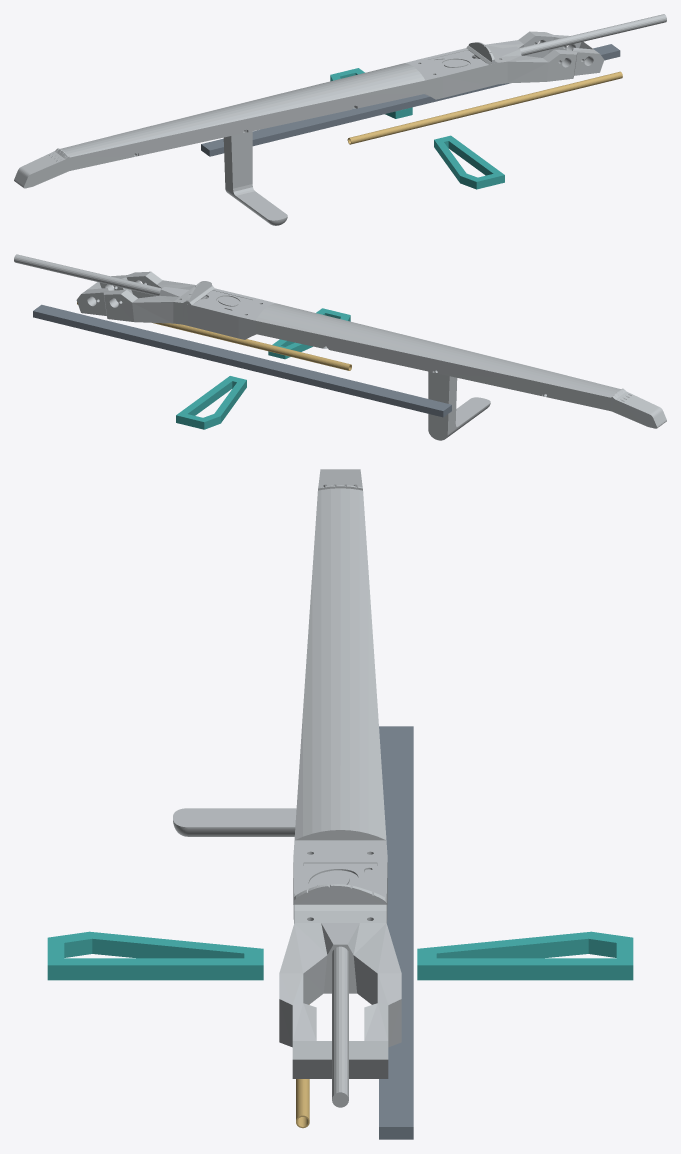
The model's file is bass_study.glb.
The picture shows the model from 3 angles, top to bottom: view 1: azimuth 30°, elevation 25°; view 2: azimuth 150°, elevation 25°; view 3: azimuth 270°, elevation 25°; orthographic projection. The views are drawn at different scales.
Visible parts, largest first — view 1: Part 6, Part 3, METAL_RAIL_ENVELOPE_unresolved, Part 2, Part 1, Part 4, Chest rest, ENDPIN_STOW_ASSUMED, Part 5, wing_1, Center bar, Nameplate (+1 smaller); view 2: METAL_RAIL_ENVELOPE_unresolved, Part 6, Part 3, Part 2, Part 1, Part 4, Chest rest, Part 5, wing_-1, Center bar, ENDPIN_STOW_ASSUMED, Nameplate (+1 smaller); view 3: Part 6, METAL_RAIL_ENVELOPE_unresolved, wing_-1, wing_1, Part 3, Part 4, Part 2, Part 1, Chest rest, Part 5, Center bar, Nameplate (+1 smaller).
Boxes of the visible parts, x1,y1,x2,y2 form: Part 6: (485,31,604,84); Part 3: (233,79,358,133); METAL_RAIL_ENVELOPE_unresolved: (201,44,620,156); Part 2: (126,105,249,155); Part 1: (14,132,139,188); Part 4: (339,59,442,108); Chest rest: (223,131,287,225); ENDPIN_STOW_ASSUMED: (347,71,622,144); Part 5: (419,45,507,99); wing_1: (434,135,504,189); Center bar: (475,14,666,58); Nameplate: (428,50,485,72); METAL_RAIL_ENVELOPE_unresolved: (33,304,451,417); Part 6: (76,271,195,324); Part 3: (322,319,447,372); Part 2: (431,346,554,397); Part 1: (541,372,666,428); Part 4: (238,299,341,349); Chest rest: (428,371,490,440); Part 5: (173,285,261,339); wing_-1: (176,376,246,429); Center bar: (14,254,205,299); ENDPIN_STOW_ASSUMED: (77,302,351,370); Nameplate: (195,290,252,313); Part 6: (279,923,401,1078); METAL_RAIL_ENVELOPE_unresolved: (379,726,413,1139); wing_-1: (417,931,633,980); wing_1: (47,931,263,980); Part 3: (299,660,381,773); Part 4: (293,765,387,856); Part 2: (306,555,374,666); Part 1: (313,469,367,558); Chest rest: (173,808,296,836); Part 5: (293,856,387,923); Center bar: (332,946,348,1107); Nameplate: (304,863,376,893).
Bounding box in the file's own units: 1070 × 148 × 420.
